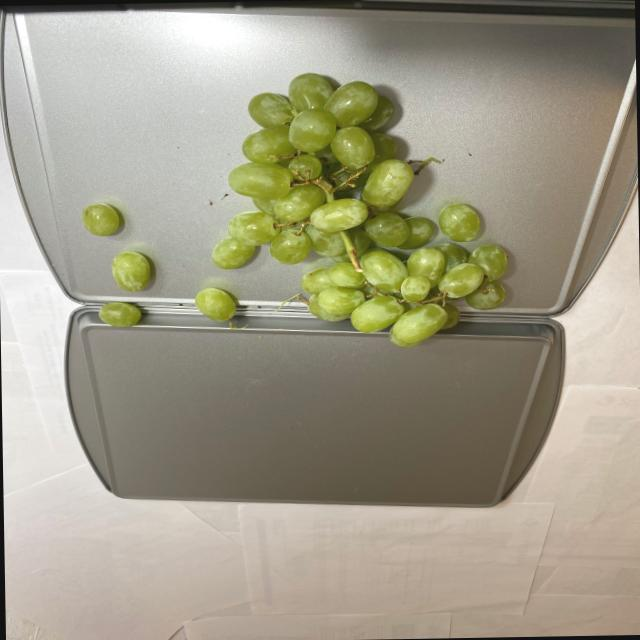grapes: (192, 67, 514, 349), (76, 204, 156, 331)
